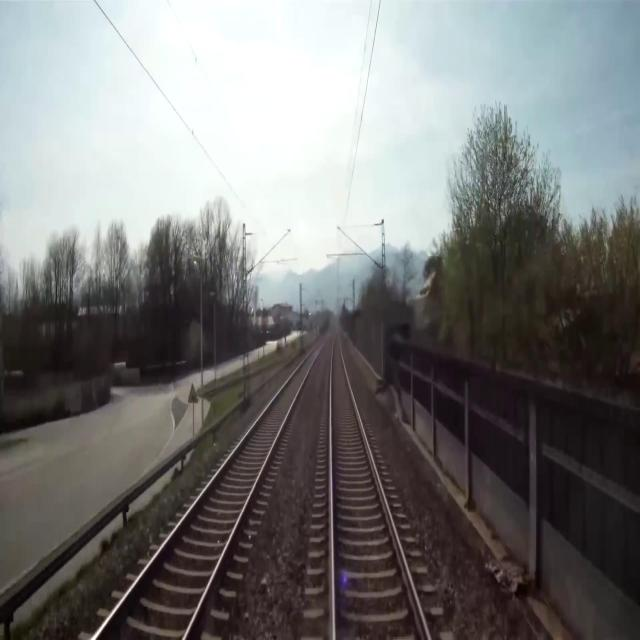rail-track: (96, 335, 327, 639), (332, 334, 426, 639)
